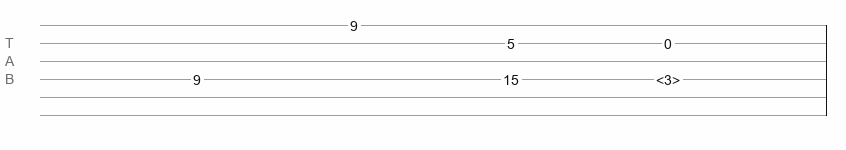0: (664, 36, 672, 46)
15: (503, 72, 519, 82)
5: (507, 36, 515, 46)
9: (193, 72, 201, 82), (350, 18, 358, 28)
harmonic: (656, 72, 680, 82)
